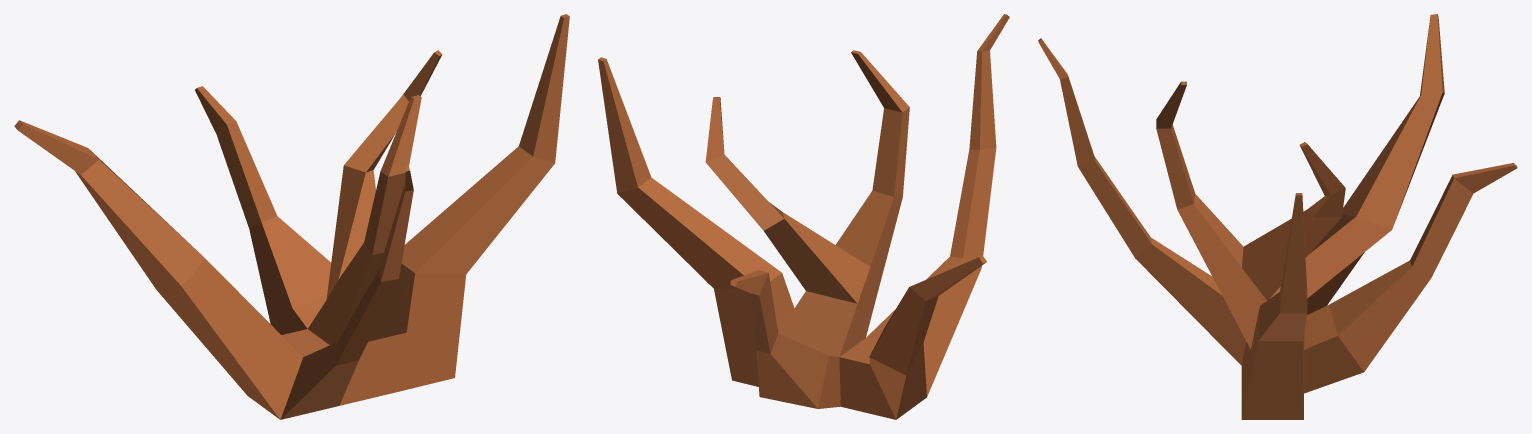
File: BushAutumn3_Alt1.fbx
3 renders of one model, left to right at view 1: azimuth 30°, elevation 25°; view 2: azimuth 150°, elevation 25°; view 3: azimuth 270°, elevation 25°, orthographic. The views are drawn at different scales.
Visible parts, largest first — view 1: BushAutumn3_Alt1; view 2: BushAutumn3_Alt1; view 3: BushAutumn3_Alt1.
Boxes of the visible parts, box(x1,y1,x2,y2) form: BushAutumn3_Alt1: box(14, 14, 569, 419); BushAutumn3_Alt1: box(598, 14, 1009, 419); BushAutumn3_Alt1: box(1038, 14, 1517, 419).
Bounding box in the file's own units: 0.855 × 0.5534 × 0.7745.
